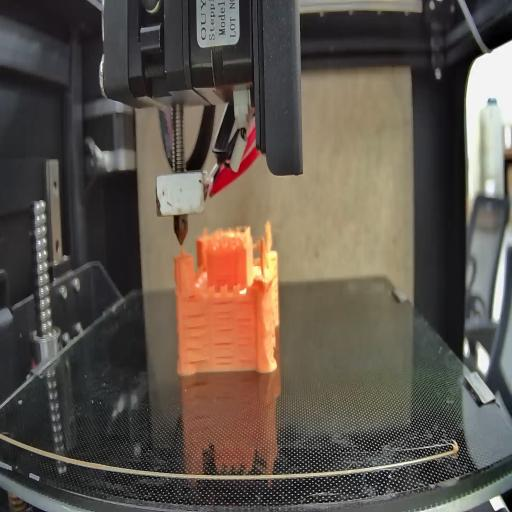cracks: (212, 300, 236, 366), (184, 313, 212, 364), (236, 297, 255, 363), (187, 291, 195, 302)
